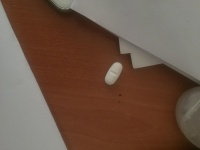Centik Buskopan: (103, 61, 123, 86)
